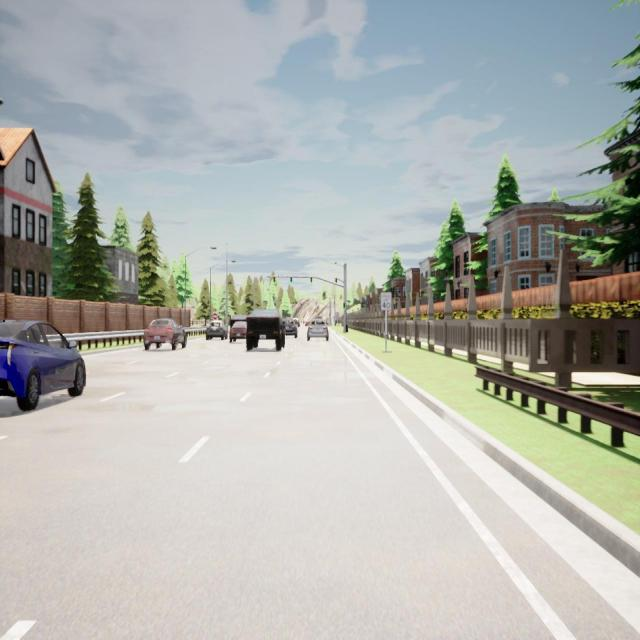Traffic_Signs: (381, 293, 391, 310), (212, 313, 218, 320)
Vehicle: (0, 319, 86, 409), (246, 309, 285, 352), (144, 319, 187, 351), (205, 320, 228, 341), (307, 320, 329, 341), (229, 321, 248, 343), (282, 319, 298, 339), (230, 314, 247, 326), (292, 318, 300, 327), (306, 320, 310, 327)
traffic_light: (344, 302, 346, 310), (274, 277, 276, 284), (290, 277, 292, 284), (310, 277, 312, 284), (336, 277, 337, 283)
